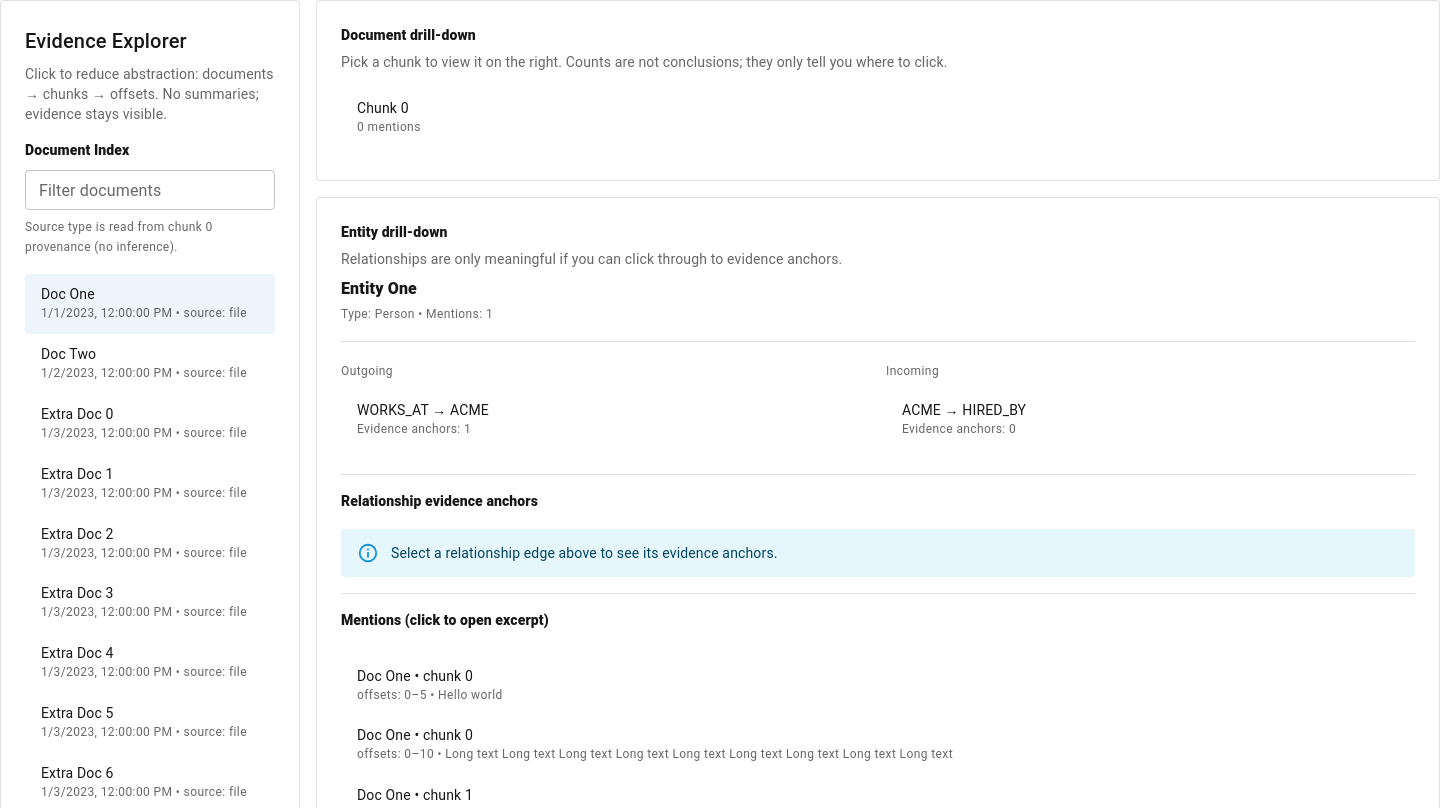
it: EvidenceExplorer › handles provenanceConfirmed: false in source badge
Click through to evidence panel
Click the text "Doc One" at (68, 294), box left=41, top=286, right=95, bottom=302
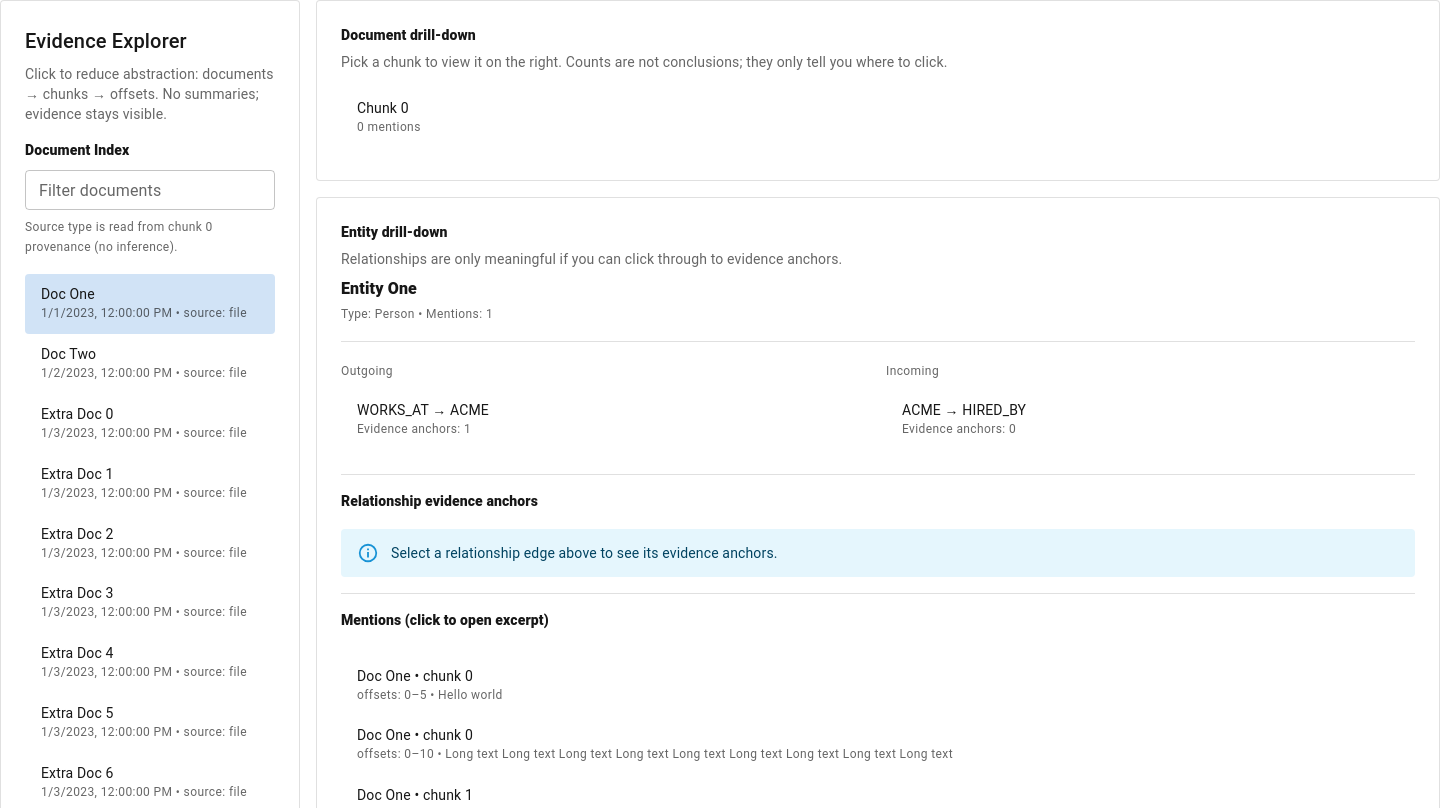
Click the text "Chunk 0" at (383, 108), box left=357, top=100, right=409, bottom=116
(page scrolled)
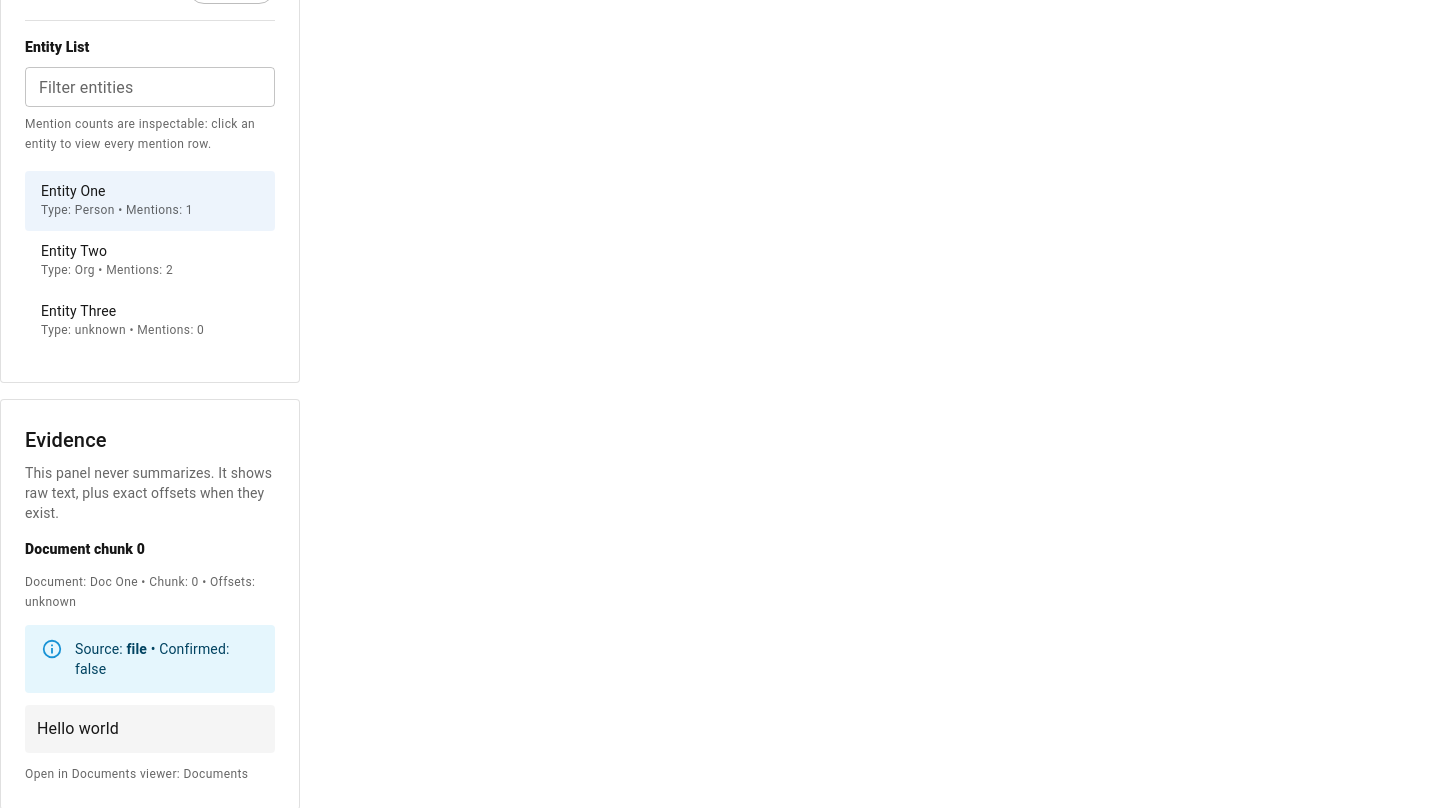
Expected: the text "Source: file • Confirmed: false" is shown, left=75, top=641, right=230, bottom=677
